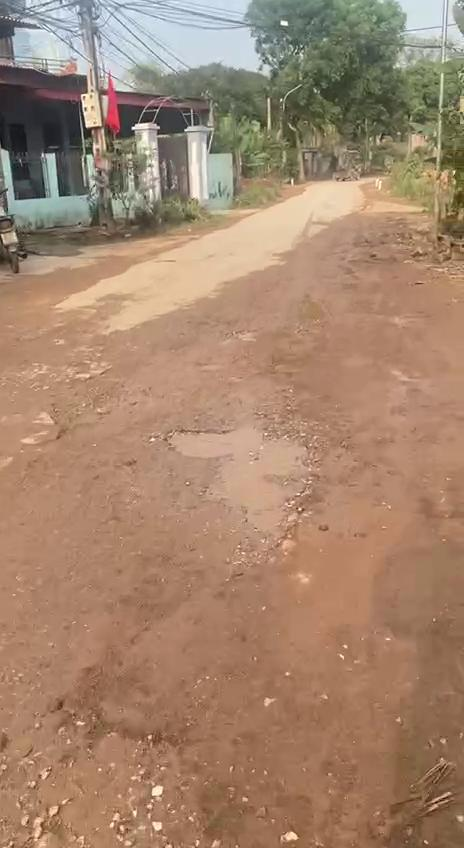pothole: (0, 703, 216, 848), (162, 420, 326, 540)
